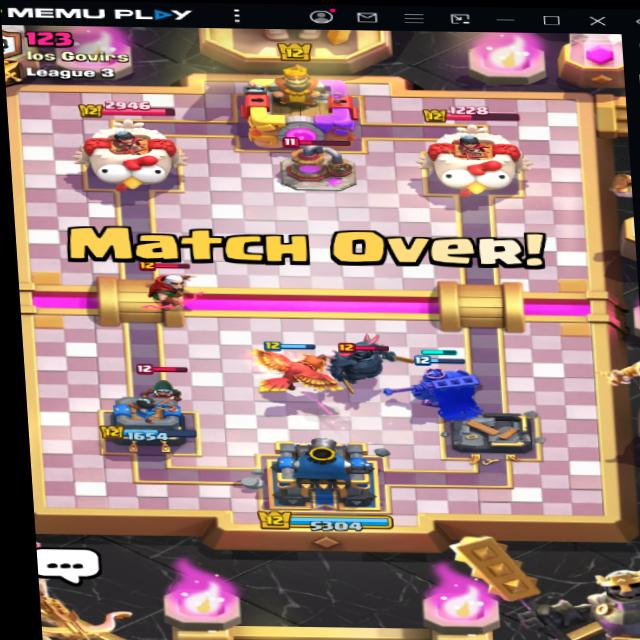bandit: (113, 358, 204, 413)
elixir-collector: (268, 135, 366, 193)
magic-archer: (134, 253, 220, 319)
pekka: (307, 337, 401, 388)
